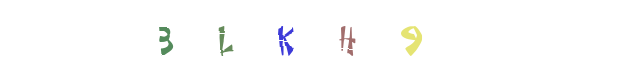3: (194, 0, 274, 80)
9: (372, 0, 452, 80)
H: (272, 0, 352, 80)
K: (244, 0, 324, 80)
L: (240, 0, 320, 80)
